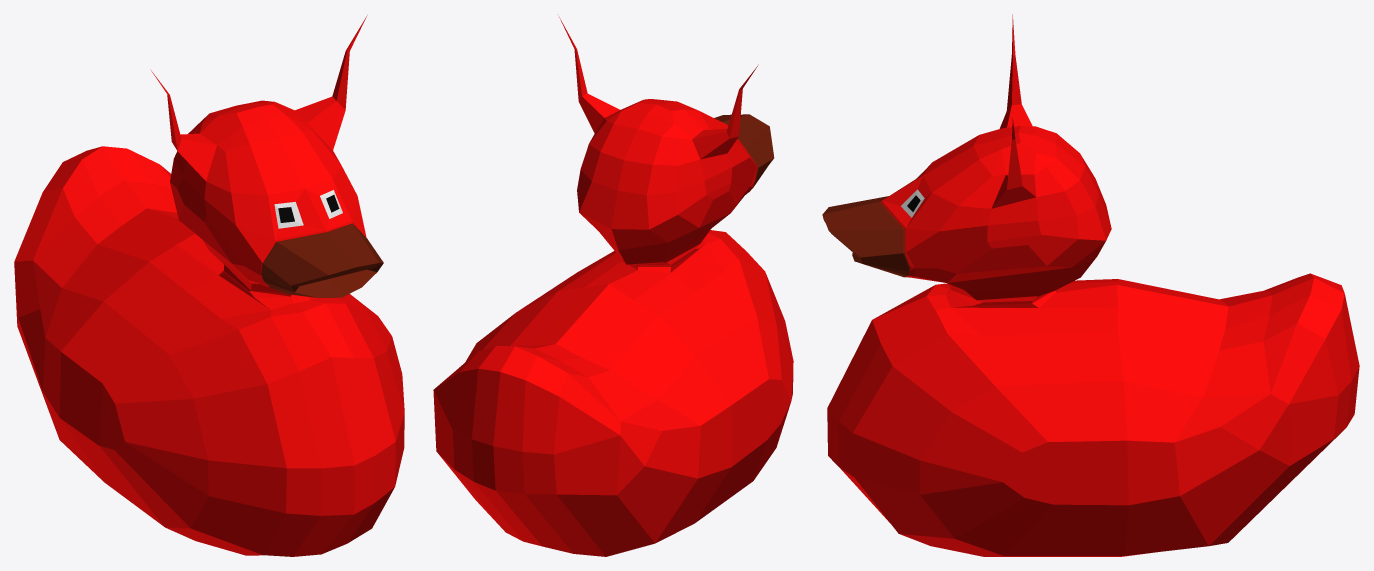
The model's file is Devil_Duck.glb.
3 renders of one model, left to right at view 1: azimuth 30°, elevation 25°; view 2: azimuth 150°, elevation 25°; view 3: azimuth 270°, elevation 25°, orthographic. The views are drawn at different scales.
Visible parts, largest first — view 1: Body; view 2: Body; view 3: Body.
Boxes of the visible parts, <box> form: Body: <box>14,15,404,556</box>; Body: <box>433,17,793,556</box>; Body: <box>822,14,1359,556</box>.
Bounding box in the file's own units: 2.04 × 3.29 × 3.53.
